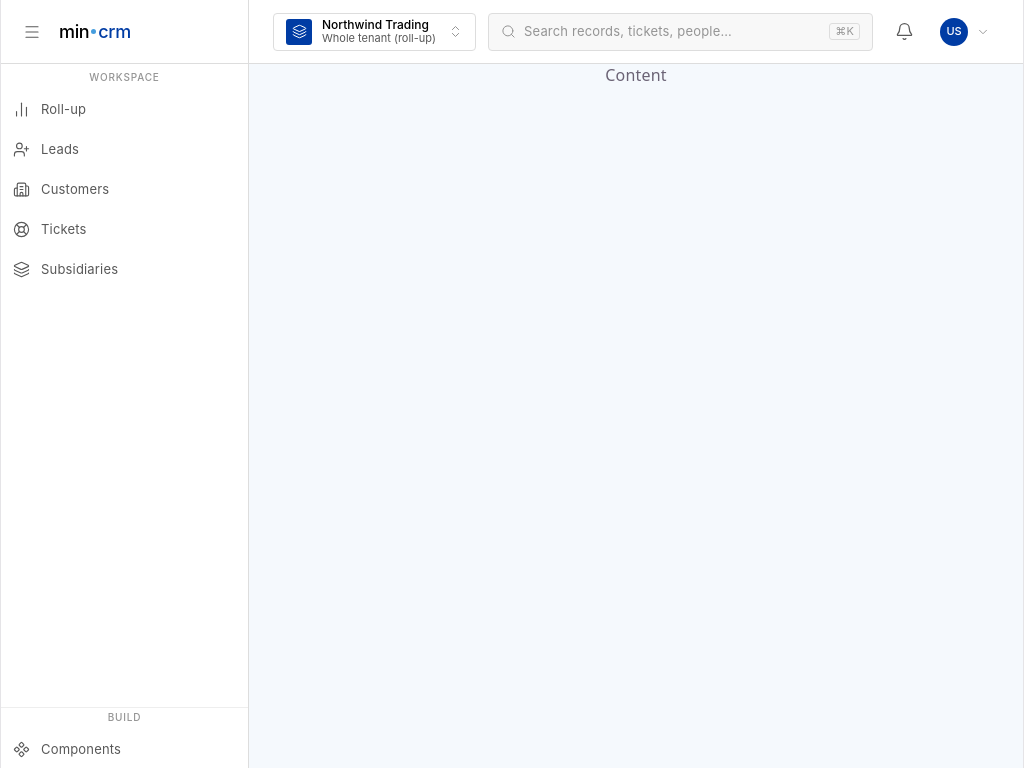
Test case: ScopeSwitcher — tenant_admin (whole tenant scope) › shows empty activeSubs list (no subs section) when activeSubs is empty
Click the button with test id "scope-switcher-chip".
click(374, 32)  # box x1=273 y1=12 x2=476 y2=50
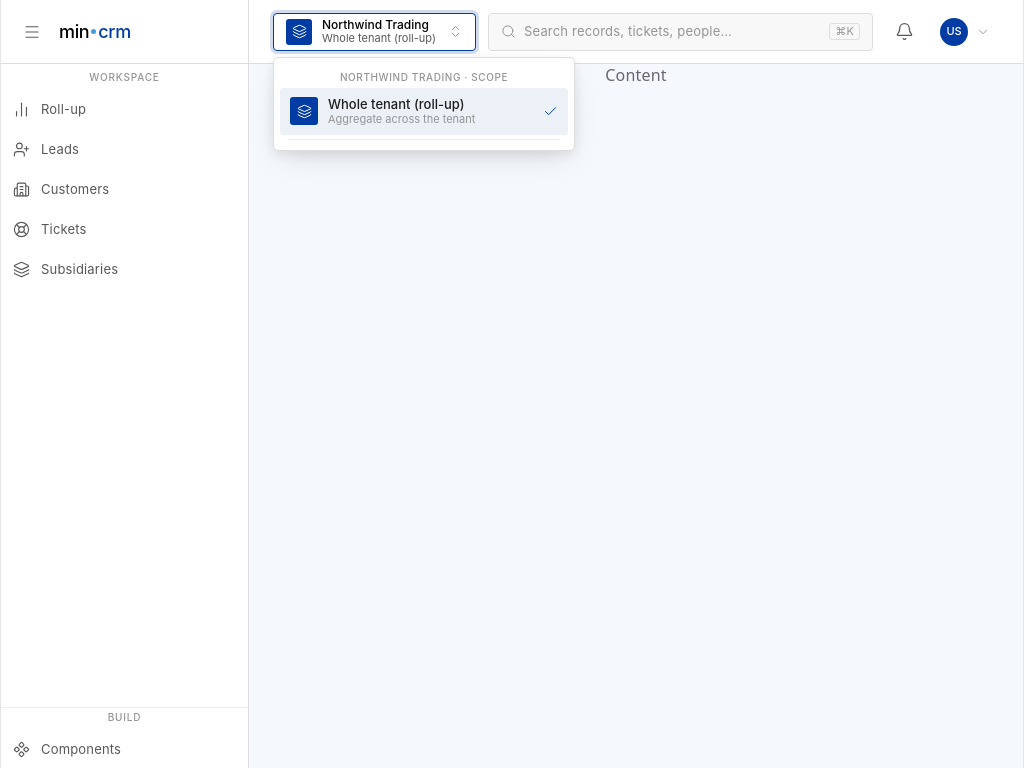
expect the button "Whole tenant (roll-up) Aggregate across the tenant" is shown: met, box x1=280 y1=88 x2=568 y2=135
